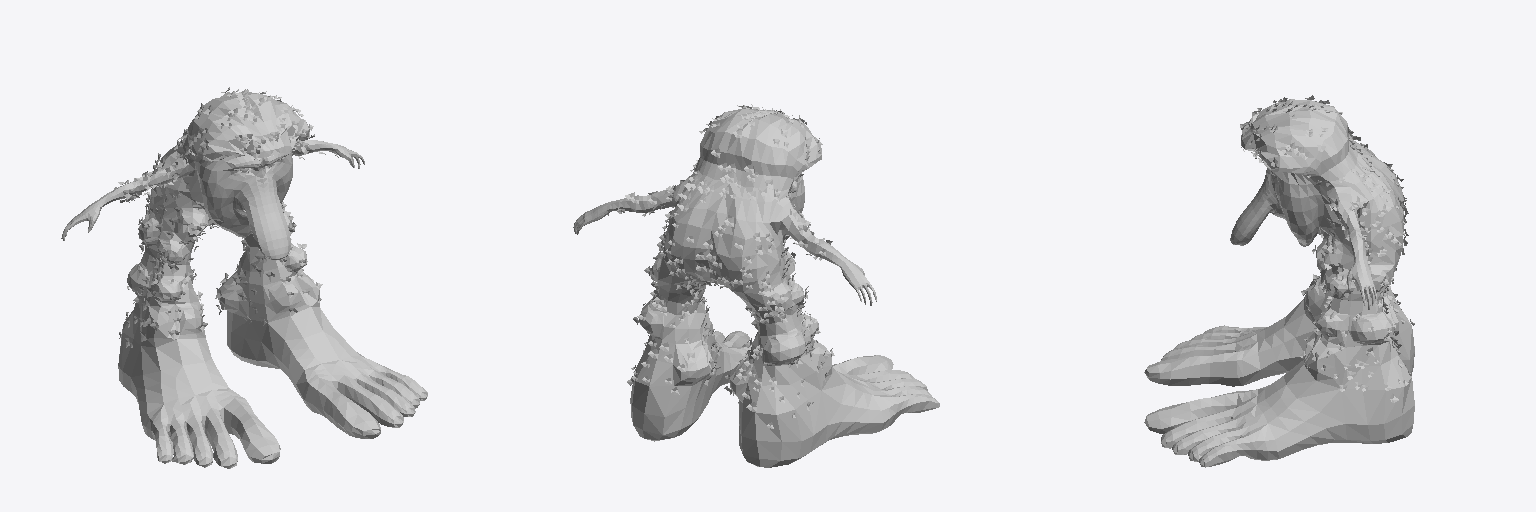
File: brr brr patapim.obj
3 renders of one model, left to right at view 1: azimuth 30°, elevation 25°; view 2: azimuth 150°, elevation 25°; view 3: azimuth 270°, elevation 25°, orthographic.
Parts seen in each view (by area): view 1: Body_LP, stylized_bush.002; view 2: Body_LP, stylized_bush.002; view 3: Body_LP, stylized_bush.002.
Part boxes in pixels (left/top/right/bottom): Body_LP: left=61, top=92, right=427, bottom=468; stylized_bush.002: left=114, top=87, right=338, bottom=347; Body_LP: left=573, top=108, right=939, bottom=467; stylized_bush.002: left=607, top=104, right=834, bottom=428; Body_LP: left=1144, top=99, right=1414, bottom=467; stylized_bush.002: left=1240, top=95, right=1414, bottom=402.
Size of the model in its own units: 1.06 by 1.02 by 0.8178.